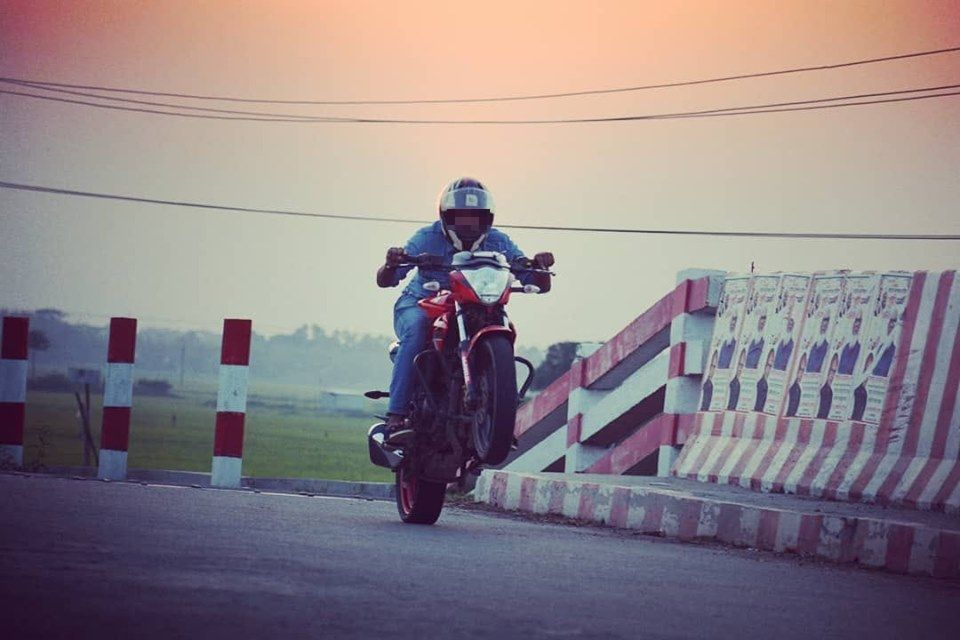bike: (368, 235, 558, 532)
